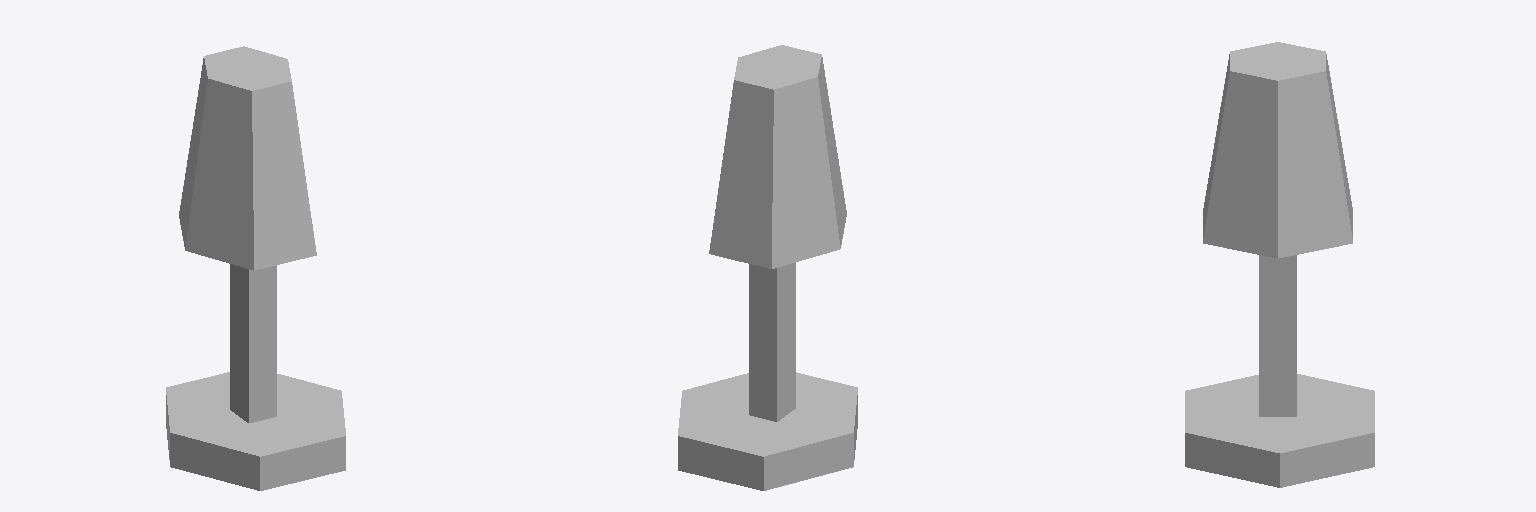
Rendered from lamp.obj.
The picture shows the model from 3 angles: view 1: azimuth 30°, elevation 25°; view 2: azimuth 150°, elevation 25°; view 3: azimuth 270°, elevation 25°; orthographic projection.
Parts seen in each view (by area): view 1: Pipe, Cylinder, Cube; view 2: Pipe, Cylinder, Cube; view 3: Pipe, Cylinder, Cube.
Boxes of the visible parts, x1,y1,x2,y2 form: Pipe: [179, 46, 316, 270]; Cylinder: [166, 372, 345, 490]; Cube: [230, 264, 276, 422]; Pipe: [709, 45, 846, 268]; Cylinder: [678, 372, 857, 490]; Cube: [749, 262, 795, 421]; Pipe: [1203, 42, 1352, 258]; Cylinder: [1185, 374, 1374, 487]; Cube: [1259, 255, 1296, 416].
Bounding box in the file's own units: 0.6136 × 1.3 × 0.5862.